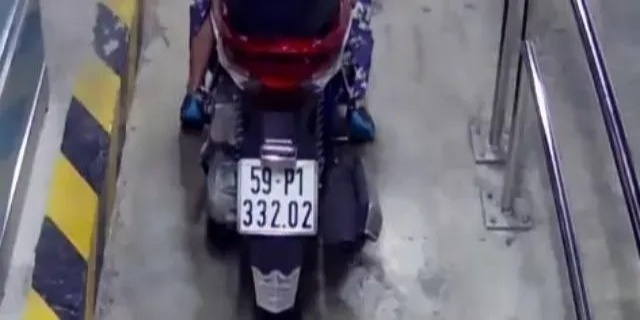bien_so: (239, 159, 319, 235)
